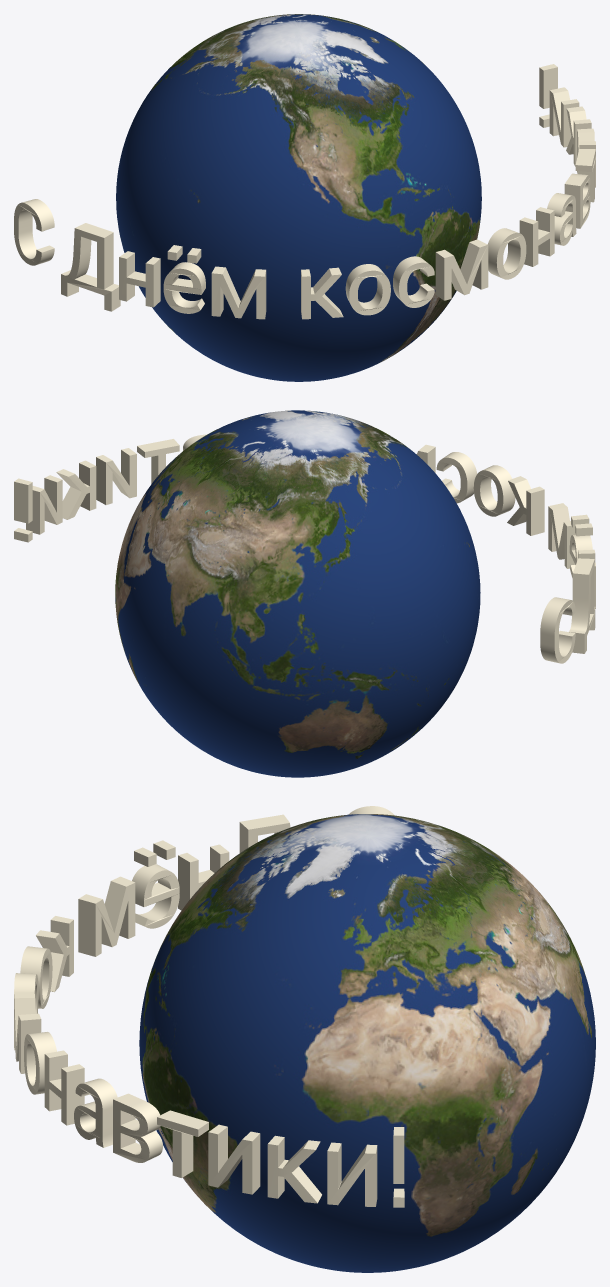
Rendered from Cosmo.glb.
The picture shows the model from 3 angles, top to bottom: view 1: azimuth 30°, elevation 25°; view 2: azimuth 150°, elevation 25°; view 3: azimuth 270°, elevation 25°; orthographic projection. The views are drawn at different scales.
Parts seen in each view (by area): view 1: Earth, Text; view 2: Earth, Text; view 3: Earth, Text.
Part boxes in pixels (x1,y1,x2,y2): Earth: (116,14,481,381); Text: (14,64,595,319); Earth: (115,410,480,777); Text: (14,434,595,663); Earth: (139,814,595,1272); Text: (14,806,404,1207).
Bounding box in the file's own units: 1.32 × 0.7803 × 0.9843.
Materials: 2 (2 with a texture image).
